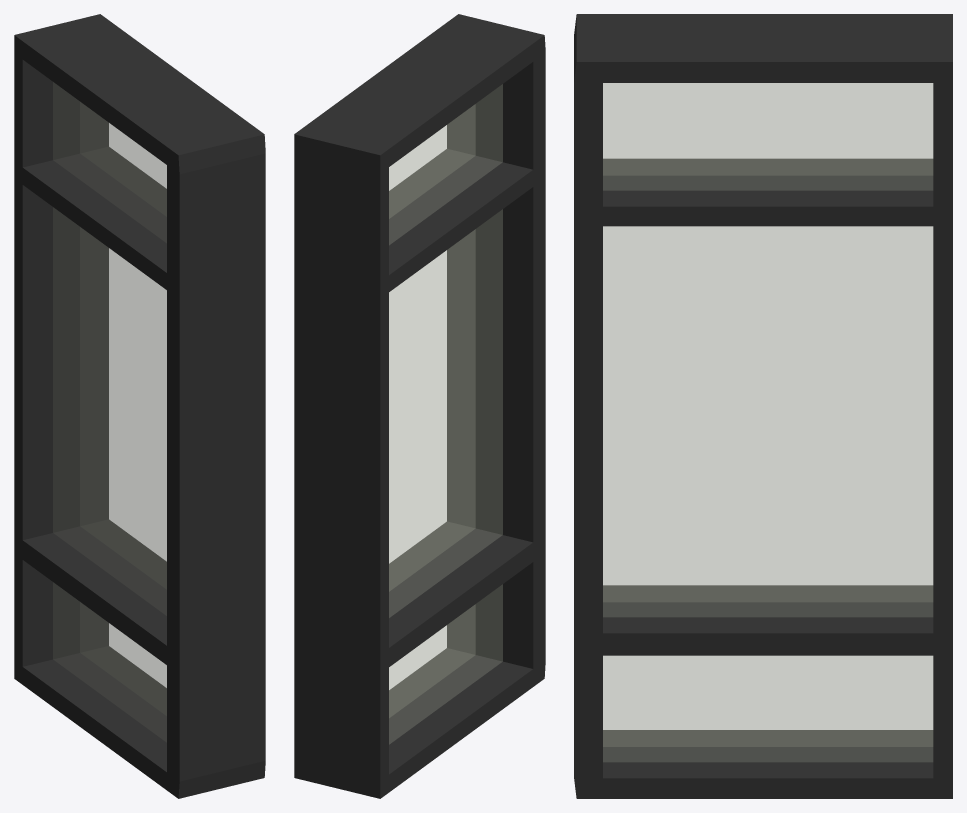
Rendered from S.WindowSingle.fbx.
3 renders of one model, left to right at view 1: azimuth 30°, elevation 25°; view 2: azimuth 150°, elevation 25°; view 3: azimuth 270°, elevation 25°, orthographic. The views are drawn at different scales.
Visible parts, largest first — view 1: Cube.005; view 2: Cube.005; view 3: Cube.005.
Part boxes in pixels (bbox=[...]): Cube.005: bbox=[14, 14, 265, 798]; Cube.005: bbox=[294, 14, 545, 798]; Cube.005: bbox=[574, 14, 952, 798].
Bounding box in the file's own units: 126 × 902 × 420.
